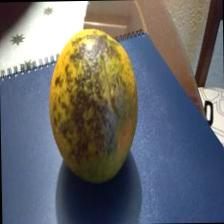Orange Rotten: (45, 20, 142, 191)
